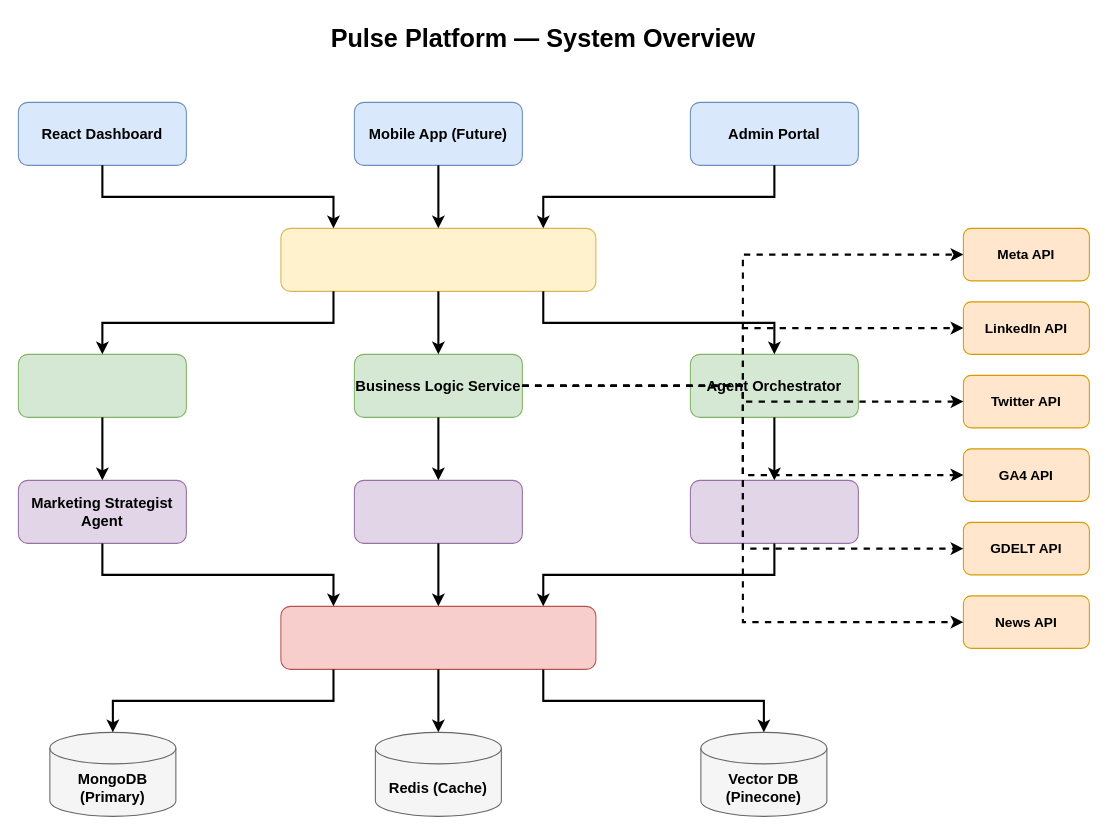
This 1108x835 diagram has some shape labels left out. Each missing label, with the centre of its shape:
"API Gateway (FastAPI + CORS)" belongs at (438,259).
"Auth Service" belongs at (101,385).
"Content Engine Agent" belongs at (773,511).
"Data Access Layer" belongs at (438,637).
"Performance Analyst Agent" belongs at (437,511).
